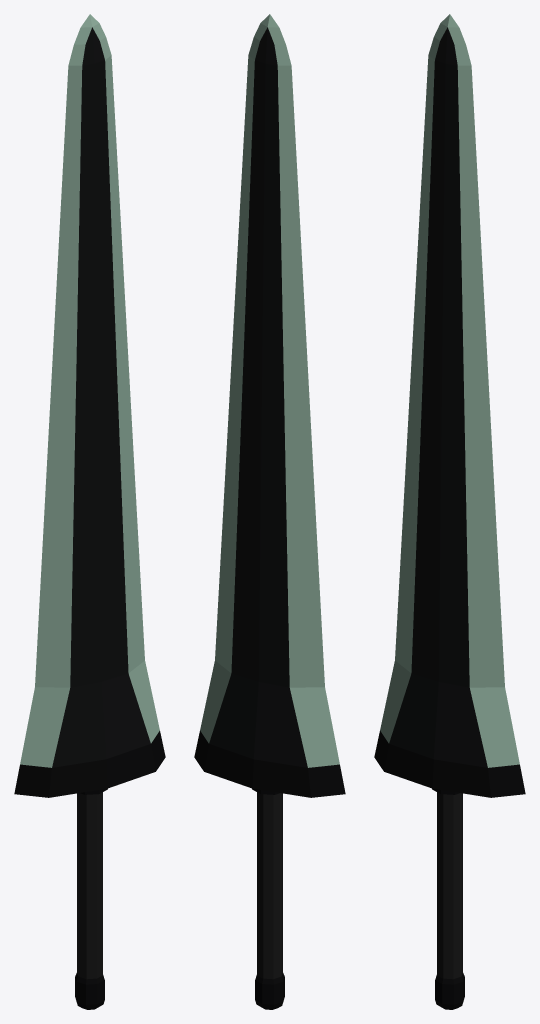
The model's file is sword2.obj.
3 views of the same model, side by side, from view 1: azimuth 30°, elevation 25°; view 2: azimuth 150°, elevation 25°; view 3: azimuth 330°, elevation 25° (orthographic).
Visible parts, largest first — view 1: Sword_Material.004, Sword_Material.003, Sword_Material.001, Sword_Material.002; view 2: Sword_Material.004, Sword_Material.003, Sword_Material.001, Sword_Material.002; view 3: Sword_Material.004, Sword_Material.003, Sword_Material.001, Sword_Material.002.
Boxes of the visible parts, bbox=[...] form: Sword_Material.004: bbox=[52, 27, 150, 767]; Sword_Material.003: bbox=[20, 14, 159, 767]; Sword_Material.001: bbox=[14, 731, 165, 1009]; Sword_Material.002: bbox=[77, 792, 102, 979]; Sword_Material.004: bbox=[209, 27, 307, 767]; Sword_Material.003: bbox=[200, 14, 339, 767]; Sword_Material.001: bbox=[194, 731, 345, 1009]; Sword_Material.002: bbox=[257, 792, 282, 979]; Sword_Material.004: bbox=[389, 27, 487, 767]; Sword_Material.003: bbox=[380, 14, 519, 767]; Sword_Material.001: bbox=[374, 731, 525, 1009]; Sword_Material.002: bbox=[437, 792, 462, 979].
Bounding box in the file's own units: 0.2398 × 1.5 × 0.0965.
